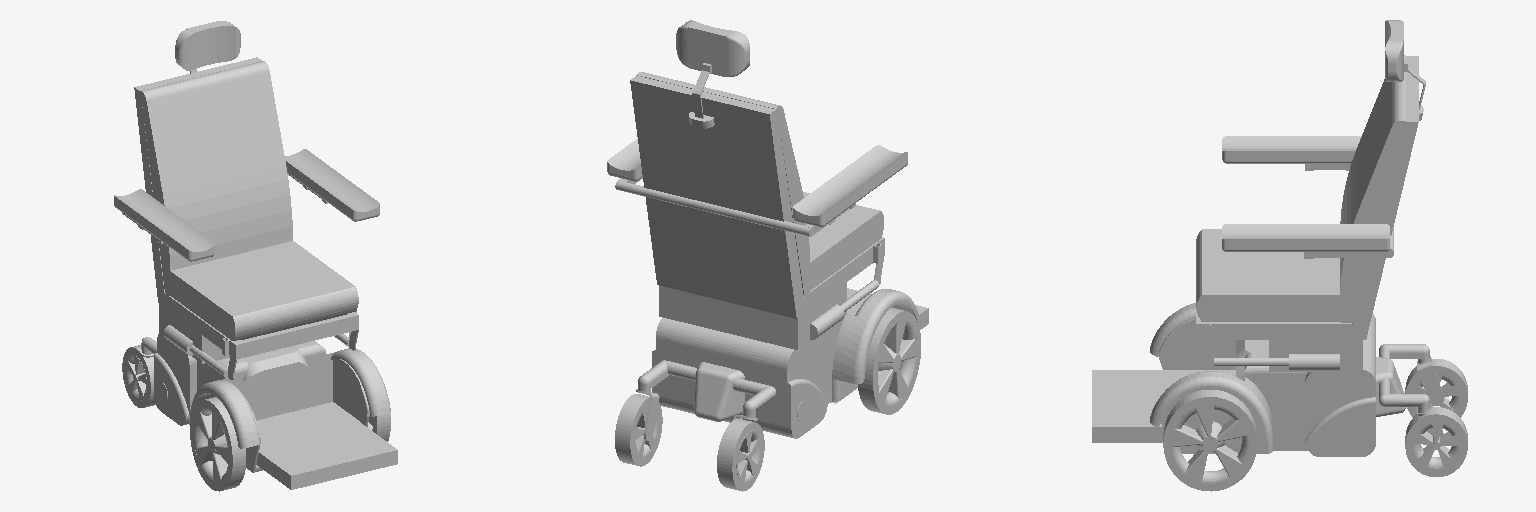
The robot description file, URDF, robot "wheelchair":
<?xml version="1.0" ?>
<robot name="wheelchair">
    <link name="base_link">
        <inertial>
            <mass value="5" />
            <origin xyz="0 0 0" rpy="0 0 0" />
            <inertia ixx="0.070968" ixy="-0.009135" ixz="-0.000056" iyy="0.048896" iyz="0.000007" izz="0.086415" />
        </inertial>
        <visual>
            <geometry>
                <mesh filename="wheelchair.obj" scale="1 0.9 1"/>
            </geometry>
            <material name="aluminium">
                <color rgba="0.827450980392156 0.827450980392156 0.827450980392156 1.0"/>
            </material>
        </visual>
        <collision>
            <geometry>
                <mesh filename="wheelchair_simplified.obj" scale="1 0.9 1"/>
            </geometry>
        </collision>
    </link>
</robot>

--- What the picture shows (computed from the rendered views, not written in the file) ---
Views: 3 orthographic renders of the robot side by side, from view 1: azimuth 30°, elevation 25°; view 2: azimuth 150°, elevation 25°; view 3: azimuth 270°, elevation 25°.
Model wheelchair with 1 links and 0 joints (none), rooted at base_link, posed all joints at 0.
Links seen in each view (by area): view 1: base_link; view 2: base_link; view 3: base_link.
Link boxes in pixels (x1,y1,x2,y2): base_link: (114, 21, 397, 491); base_link: (607, 20, 928, 491); base_link: (1092, 20, 1467, 491).
Size in the robot's own frame: 0.7102 by 1.1 by 1.35 metres.
Meshes: 1 distinct files referenced, 1 mesh visuals loaded (1 OBJ).
